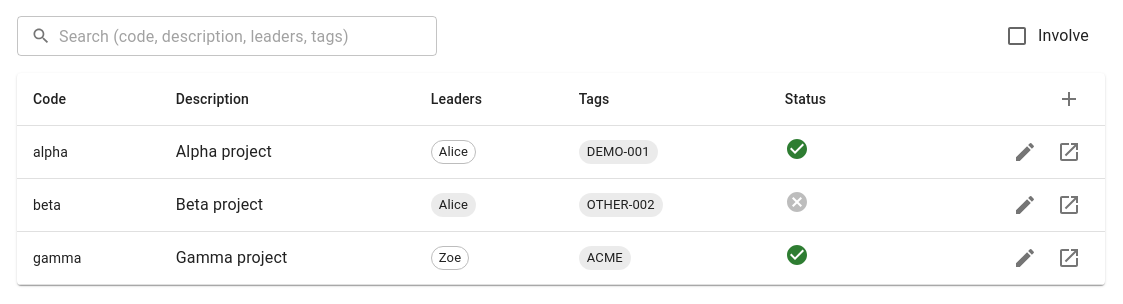
Test: ProjectListPage — Involve filter › shows only projects where the current user is in any members array when Involve is checked
Expected: the text "alpha" is shown, [17,126,160,178]
Click the checkbox labelled "Involve" at (1047, 36), box [1005,24,1089,48]
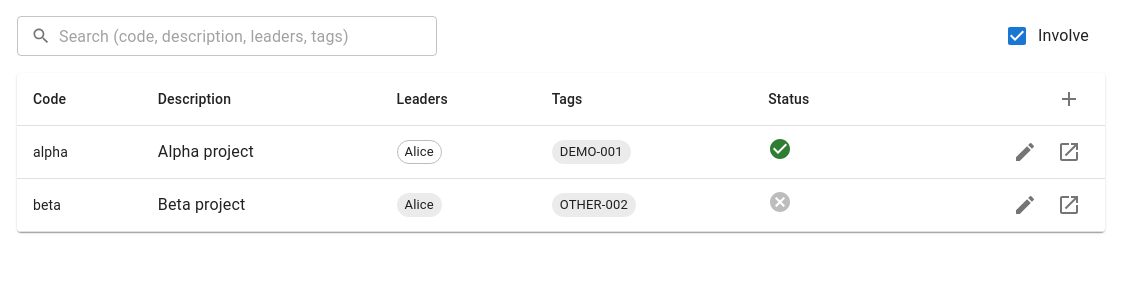
Expected: the text "alpha" is shown, [17,126,142,178]
Now the text "gamma" is gone
